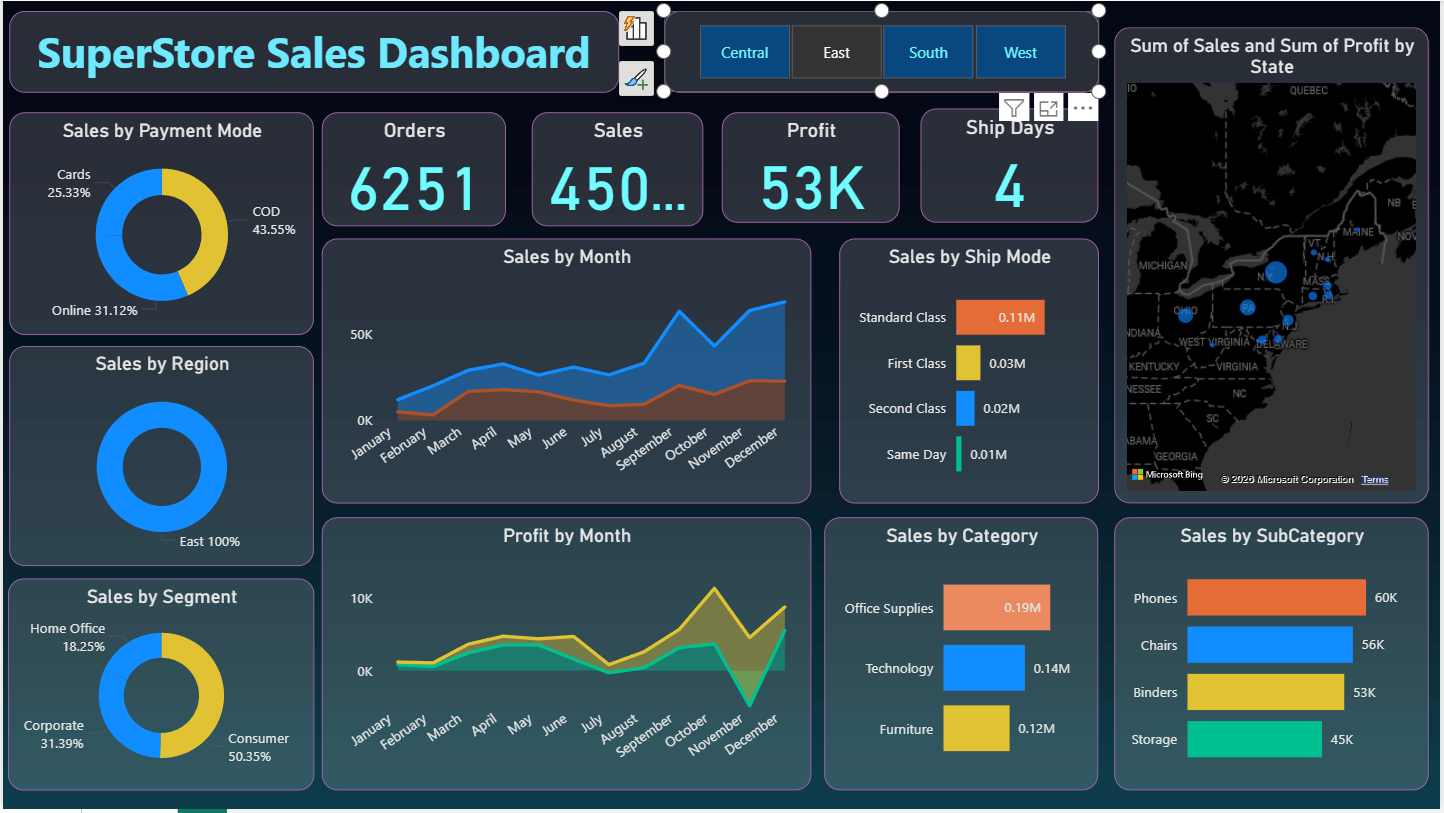

The dashboard page shown, as its layout file describes it:
{"tool":"powerbi","page":{"name":"Page 1","canvas":[1280,720],"ordinal":0},"visuals":[{"type":"clusteredBarChart","title":"Sales by Category","fields":{"Category":["SuperStore_Sales_Dataset (2).Category"],"Y":["Sum(SuperStore_Sales_Dataset (2).Sales)"]},"box":[731.4,460,244.3,242.9],"z":0},{"type":"clusteredBarChart","title":"Sales by SubCategory","fields":{"Category":["SuperStore_Sales_Dataset (2).Sub-Category"],"Y":["Sum(SuperStore_Sales_Dataset (2).Sales)"]},"box":[990,460,280,242.9],"z":1000},{"type":"clusteredBarChart","title":"Sales by Ship Mode","fields":{"Category":["SuperStore_Sales_Dataset (2).Ship Mode"],"Y":["Sum(SuperStore_Sales_Dataset (2).Sales)"]},"box":[744.3,211.4,231.4,235.7],"z":2000},{"type":"stackedAreaChart","title":"Sales by Month","fields":{"Y":["Sum(SuperStore_Sales_Dataset (2).Sales)"],"Category":["SuperStore_Sales_Dataset (2).Order Date.Variation.Date Hierarchy.Month","SuperStore_Sales_Dataset (2).Order Date.Variation.Date Hierarchy.Day"],"Series":["SuperStore_Sales_Dataset (2).Order Date.Variation.Date Hierarchy.Year"]},"box":[284.3,211.4,435.7,235.7],"z":3000},{"type":"stackedAreaChart","title":"Profit by Month","fields":{"Category":["SuperStore_Sales_Dataset (2).Order Date.Variation.Date Hierarchy.Month","SuperStore_Sales_Dataset (2).Order Date.Variation.Date Hierarchy.Day"],"Series":["SuperStore_Sales_Dataset (2).Order Date.Variation.Date Hierarchy.Year"],"Y":["Sum(SuperStore_Sales_Dataset (2).Profit)"]},"box":[284.3,460,435.7,242.9],"z":4000},{"type":"map","fields":{"Category":["SuperStore_Sales_Dataset (2).State"],"Size":["Sum(SuperStore_Sales_Dataset (2).Sales)"]},"box":[990,22.9,280,424.3],"z":5000},{"type":"donutChart","title":"Sales by Segment","fields":{"Category":["SuperStore_Sales_Dataset (2).Segment"],"Y":["Sum(SuperStore_Sales_Dataset (2).Sales)"]},"box":[4.3,514.3,272.9,188.6],"z":6000},{"type":"donutChart","title":"Sales by Payment Mode","fields":{"Category":["SuperStore_Sales_Dataset (2).Payment Mode"],"Y":["Sum(SuperStore_Sales_Dataset (2).Sales)"]},"box":[5.7,98.6,271.4,198.6],"z":7000},{"type":"slicer","fields":{"Values":["SuperStore_Sales_Dataset (2).Region"]},"box":[588.6,8.6,387.1,72.9],"z":8000},{"type":"textbox","box":[5.7,8.6,542.9,72.9],"z":9000},{"type":"card","title":"Sales","fields":{"Values":["Sum(SuperStore_Sales_Dataset (2).Sales)"]},"box":[471.4,98.6,152.9,101.4],"z":10000},{"type":"card","title":"Orders","fields":{"Values":["Sum(SuperStore_Sales_Dataset (2).Quantity)"]},"box":[284.3,98.6,164.3,101.4],"z":11000},{"type":"card","title":"Profit","fields":{"Values":["Sum(SuperStore_Sales_Dataset (2).Profit)"]},"box":[640,98.6,158.6,98.6],"z":12000},{"type":"card","title":"Ship Days","fields":{"Values":["Avg(SuperStore_Sales_Dataset (2).AvgDelivery)"]},"box":[817.1,95.7,158.6,101.4],"z":13000},{"type":"donutChart","title":"Sales by Region","fields":{"Category":["SuperStore_Sales_Dataset (2).Region"],"Y":["Sum(SuperStore_Sales_Dataset (2).Sales)"]},"box":[5.7,307.1,271.4,195.7],"z":14000}]}

Visuals, with their boxes in screenshot pixels (x1, y1, x2, y2), scaled from the page's 1280x720 canvas onto the 1444x813 screenshot:
"Sales by Category" clusteredBarChart: [825,519,1101,794]
"Sales by SubCategory" clusteredBarChart: [1117,519,1433,794]
"Sales by Ship Mode" clusteredBarChart: [840,239,1101,505]
"Sales by Month" stackedAreaChart: [321,239,812,505]
"Profit by Month" stackedAreaChart: [321,519,812,794]
map - SuperStore_Sales_Dataset (2).State x Sum(SuperStore_Sales_Dataset (2).Sales): [1117,26,1433,505]
"Sales by Segment" donutChart: [5,581,313,794]
"Sales by Payment Mode" donutChart: [6,111,313,336]
slicer - SuperStore_Sales_Dataset (2).Region: [664,10,1101,92]
textbox: [6,10,619,92]
"Sales" card: [532,111,704,226]
"Orders" card: [321,111,506,226]
"Profit" card: [722,111,901,223]
"Ship Days" card: [922,108,1101,223]
"Sales by Region" donutChart: [6,347,313,568]
